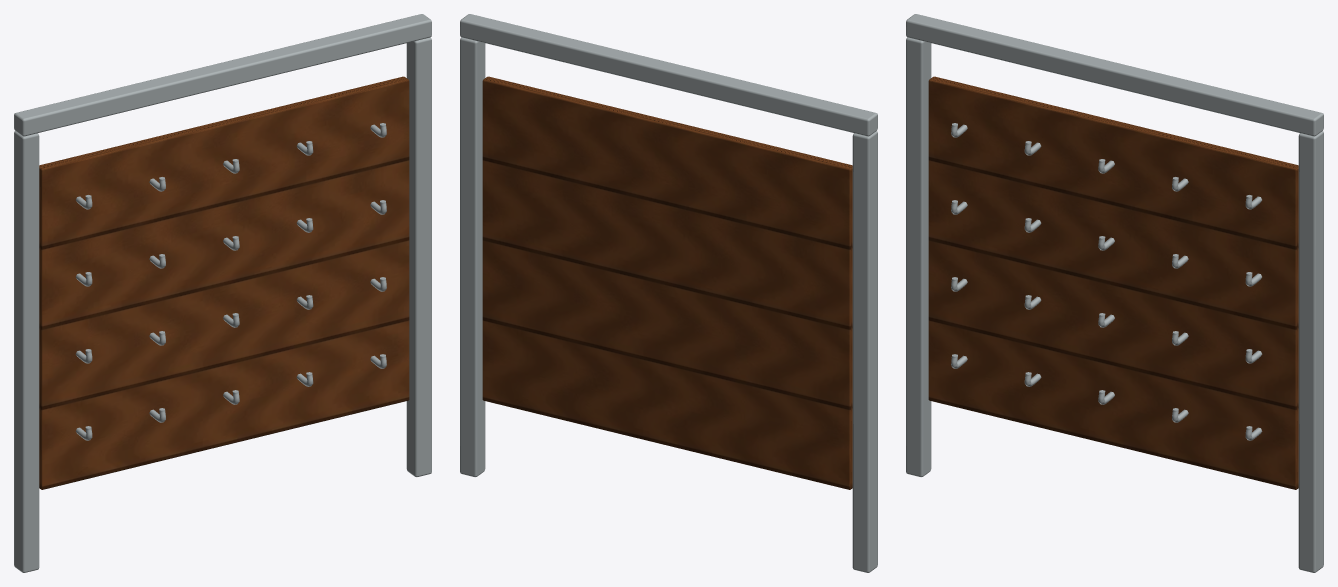
Rendered from salvage-and-repair-workshop-pegboard-tool-wall-3c5bbb15__25443.glb.
The picture shows the model from 3 angles, left to right: view 1: azimuth 30°, elevation 25°; view 2: azimuth 150°, elevation 25°; view 3: azimuth 330°, elevation 25°; orthographic projection.
Parts seen in each view (by area): view 1: pegboard-tool-wall; view 2: pegboard-tool-wall; view 3: pegboard-tool-wall.
Part boxes in pixels (left/top/right/bottom): pegboard-tool-wall: left=14, top=14, right=431, bottom=572; pegboard-tool-wall: left=460, top=14, right=877, bottom=572; pegboard-tool-wall: left=906, top=14, right=1323, bottom=572.
Size of the model in its own units: 1.67 by 1.77 by 0.1415.
Materials: 2 (1 with a texture image).
